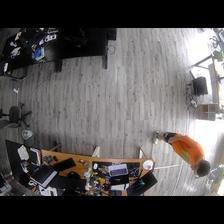normal: (153, 129, 210, 178)
